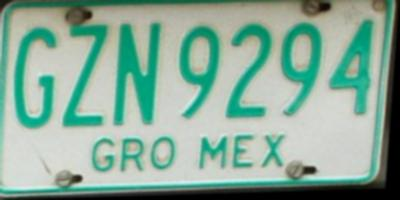License_Plate: (0, 0, 383, 188)
